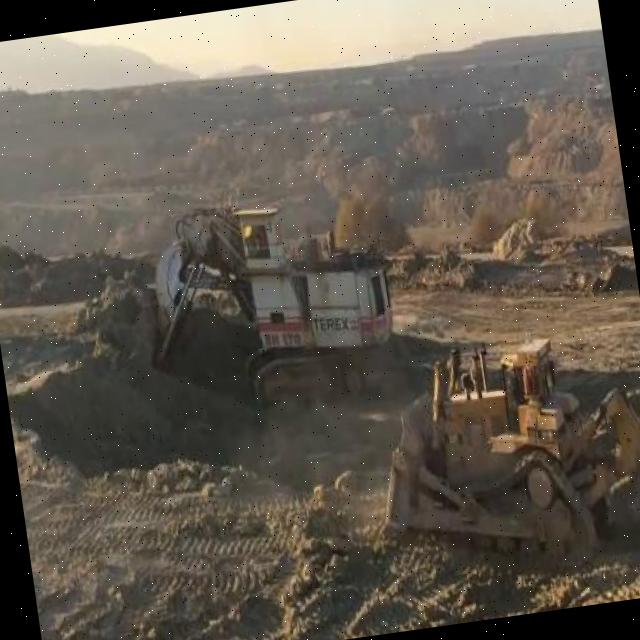Excavator: (136, 183, 418, 431)
